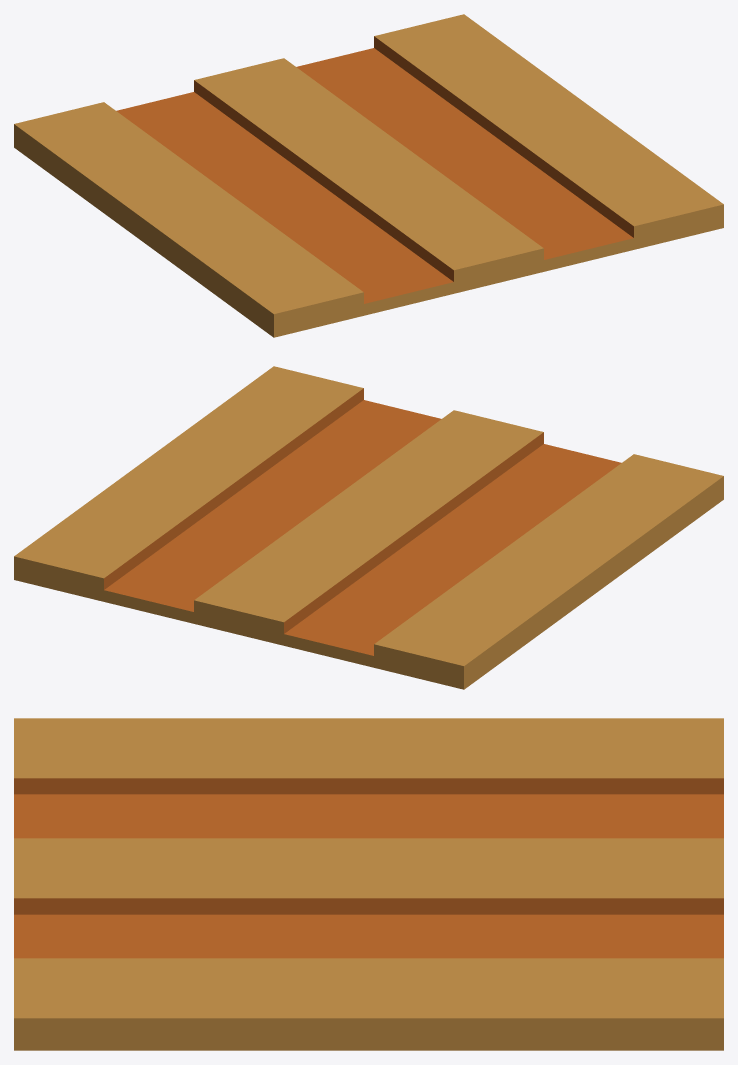
Rendered from Tile_Dirt_Road_Straight.fbx.
3 views of the same model, one above another, from view 1: azimuth 30°, elevation 25°; view 2: azimuth 150°, elevation 25°; view 3: azimuth 270°, elevation 25° (orthographic). The views are drawn at different scales.
Visible parts, largest first — view 1: Tile_Dirt_Road_Straight; view 2: Tile_Dirt_Road_Straight; view 3: Tile_Dirt_Road_Straight.
Boxes of the visible parts, x1=… form: Tile_Dirt_Road_Straight: x1=14, y1=14, x2=723, y2=337; Tile_Dirt_Road_Straight: x1=14, y1=366, x2=723, y2=689; Tile_Dirt_Road_Straight: x1=14, y1=718, x2=723, y2=1050.
Size of the model in its own units: 100 by 5 by 100.
